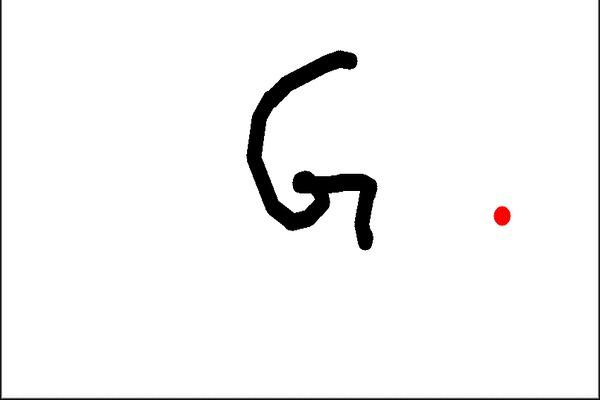G: (241, 45, 386, 256)
